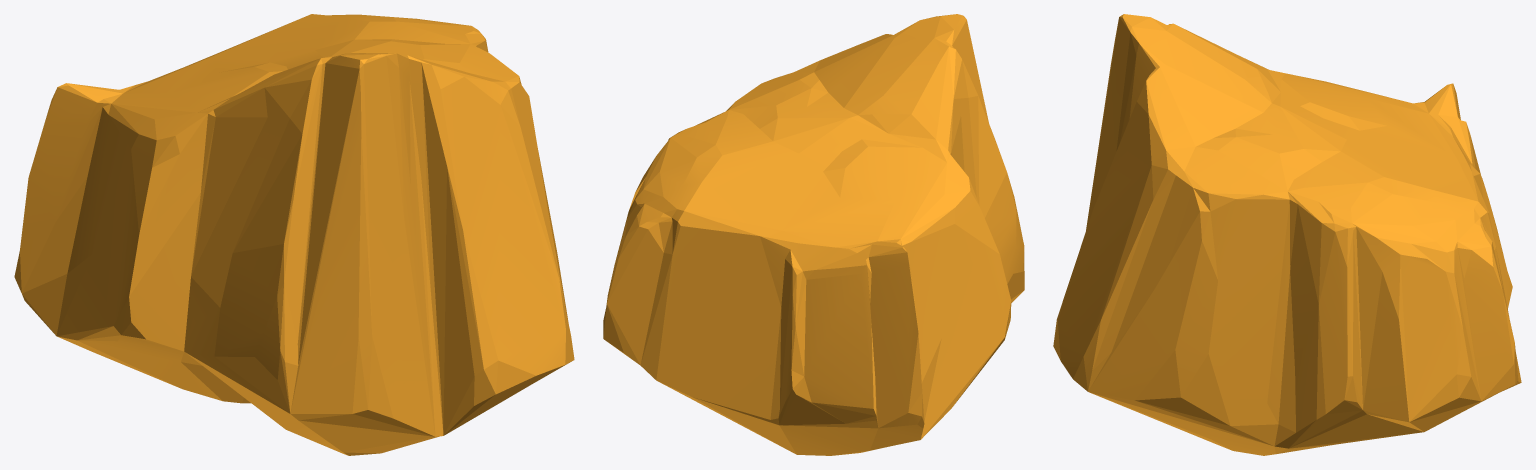
The model's file is SM_Iceberg_Small_F_Plane.fbx.
The picture shows the model from 3 angles, left to right: view 1: azimuth 30°, elevation 25°; view 2: azimuth 150°, elevation 25°; view 3: azimuth 270°, elevation 25°; orthographic projection. The views are drawn at different scales.
Parts seen in each view (by area): view 1: iceberg-small-f-plane; view 2: iceberg-small-f-plane; view 3: iceberg-small-f-plane.
Boxes of the visible parts, <box> form: iceberg-small-f-plane: <box>14,14,574,455</box>; iceberg-small-f-plane: <box>603,14,1024,455</box>; iceberg-small-f-plane: <box>1053,14,1521,455</box>.
Bounding box in the file's own units: 2.65 × 2.64 × 2.81.
